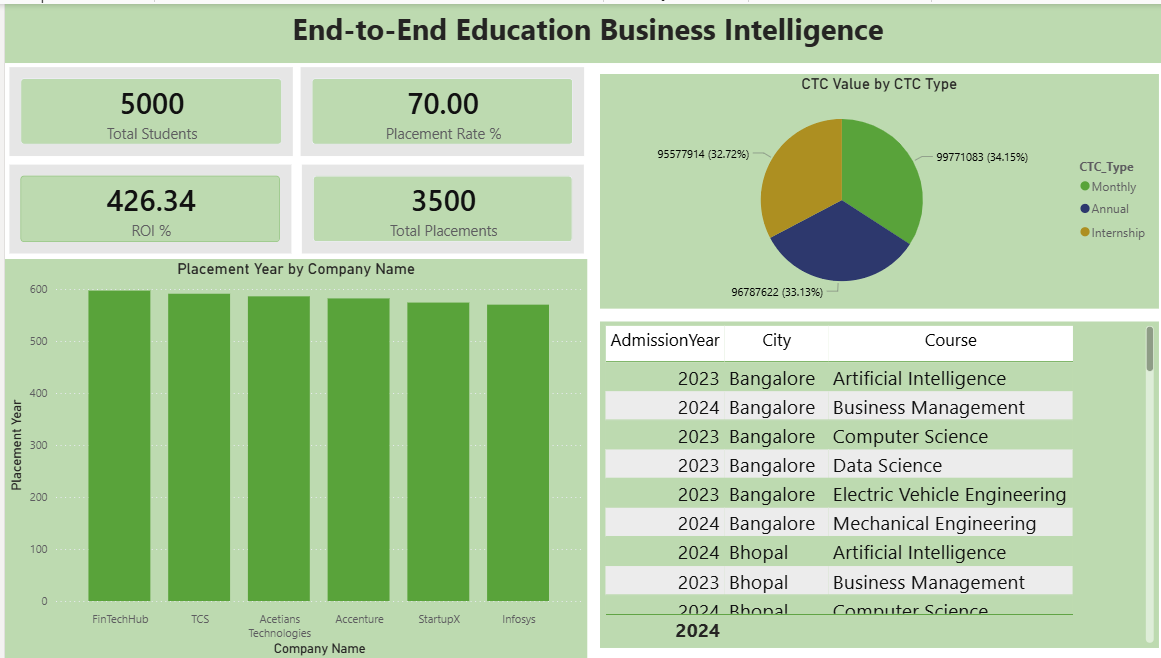

What the dashboard file says about the page in this screenshot:
{"tool":"powerbi","page":{"name":"Executive Performance & Placement Overview","canvas":[1280,720],"ordinal":1},"visuals":[{"type":"cardVisual","fields":{"Data":["Fact_Executive_ROI.ROI %"]},"box":[0,171.5,319.7,107],"z":0},{"type":"cardVisual","fields":{"Data":["Fact_Placements.Placement Rate %"]},"box":[319.7,64.5,321.1,107],"z":1000},{"type":"cardVisual","fields":{"Data":["Fact_Student_Skills.Total Placements"]},"box":[321.1,171.5,319.7,107],"z":2000},{"type":"cardVisual","fields":{"Data":["Count(Fact_Student_Skills.StudentID)"]},"box":[0,64.5,321.1,107],"z":3000},{"type":"textbox","box":[0,0,1280.3,64.5],"z":4000},{"type":"columnChart","title":"Placement Year by Company Name","fields":{"Category":["Dim_Company.CompanyName"],"Y":["CountNonNull(Fact_Placements.PlacementYear)"]},"box":[0,279.9,639.5,440.5],"z":5000},{"type":"pieChart","title":"CTC Value by CTC Type","fields":{"Category":["Fact_Placements.CTC_Type"],"Y":["Sum(Fact_Placements.CTC_Value)"]},"box":[653.2,76.8,613.4,258],"z":6000},{"type":"tableEx","fields":{"Values":["Median(Dim_Student.AdmissionYear)","Dim_Student.City","Dim_Student.Course"]},"box":[653.2,348.5,613.4,358.1],"z":7000}]}

Visuals, with their boxes in screenshot pixels (x1, y1, x2, y2), scaled from the page's 1280x720 canvas onto the 1161x658 screenshot:
cardVisual - Fact_Executive_ROI.ROI %: crop(0, 157, 290, 255)
cardVisual - Fact_Placements.Placement Rate %: crop(290, 59, 581, 157)
cardVisual - Fact_Student_Skills.Total Placements: crop(291, 157, 581, 255)
cardVisual - Count(Fact_Student_Skills.StudentID): crop(0, 59, 291, 157)
textbox: crop(0, 0, 1160, 59)
"Placement Year by Company Name" columnChart: crop(0, 256, 580, 657)
"CTC Value by CTC Type" pieChart: crop(592, 70, 1149, 306)
tableEx - Median(Dim_Student.AdmissionYear) x Dim_Student.City: crop(592, 318, 1149, 646)
